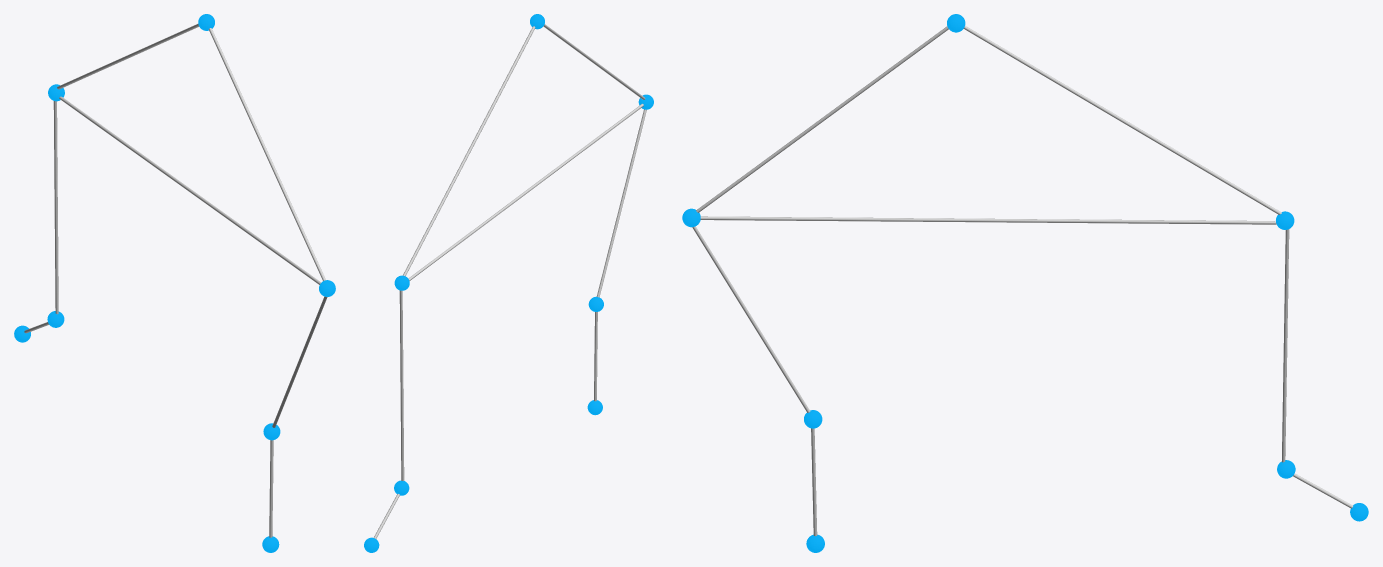
Rendered from Tula.glb.
3 views of the same model, side by side, from view 1: azimuth 30°, elevation 25°; view 2: azimuth 150°, elevation 25°; view 3: azimuth 270°, elevation 25° (orthographic). The views are drawn at different scales.
Visible parts, largest first — view 1: Sphere.014; view 2: Sphere.014; view 3: Sphere.014.
Boxes of the visible parts, x1,y1,x2,y2 form: Sphere.014: (14,14,335,552); Sphere.014: (364,14,653,552); Sphere.014: (682,14,1368,552).
Size of the model in its own units: 0.1011 by 3.22 by 3.73.
